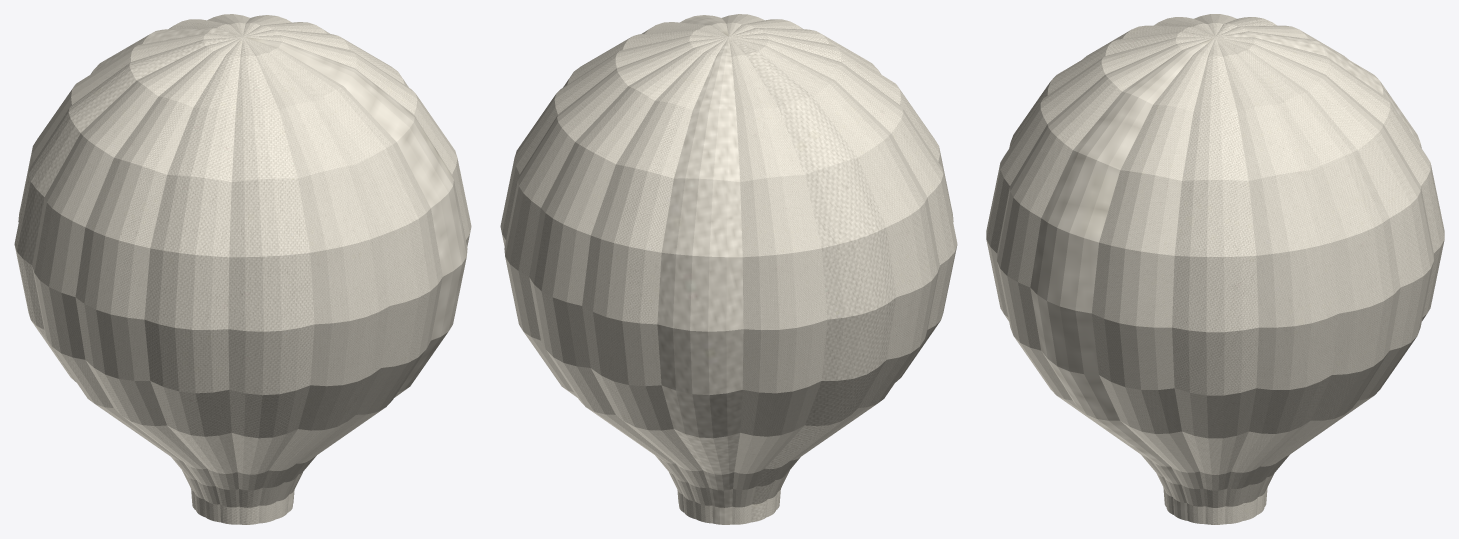
File: justballoon.obj
3 renders of one model, left to right at view 1: azimuth 30°, elevation 25°; view 2: azimuth 150°, elevation 25°; view 3: azimuth 270°, elevation 25°, orthographic.
Visible parts, largest first — view 1: Circle_Circle_Material.002; view 2: Circle_Circle_Material.002; view 3: Circle_Circle_Material.002.
Part boxes in pixels (bbox=[...]): Circle_Circle_Material.002: bbox=[14, 14, 471, 524]; Circle_Circle_Material.002: bbox=[500, 14, 957, 524]; Circle_Circle_Material.002: bbox=[986, 14, 1444, 524].
Size of the model in its own units: 6.12 by 6.87 by 6.12.
